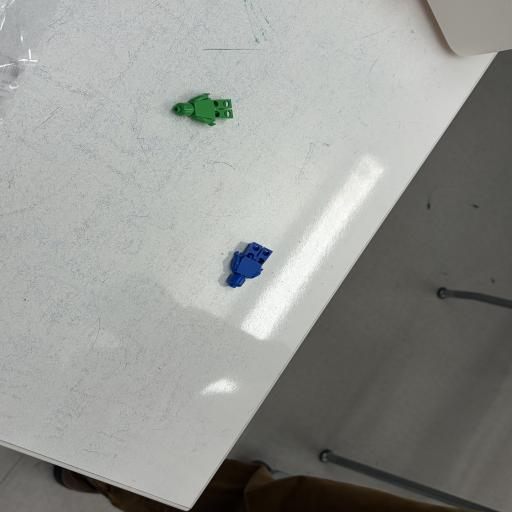Blue-Lego: (227, 242, 272, 288)
Green-Lego: (172, 93, 233, 126)
